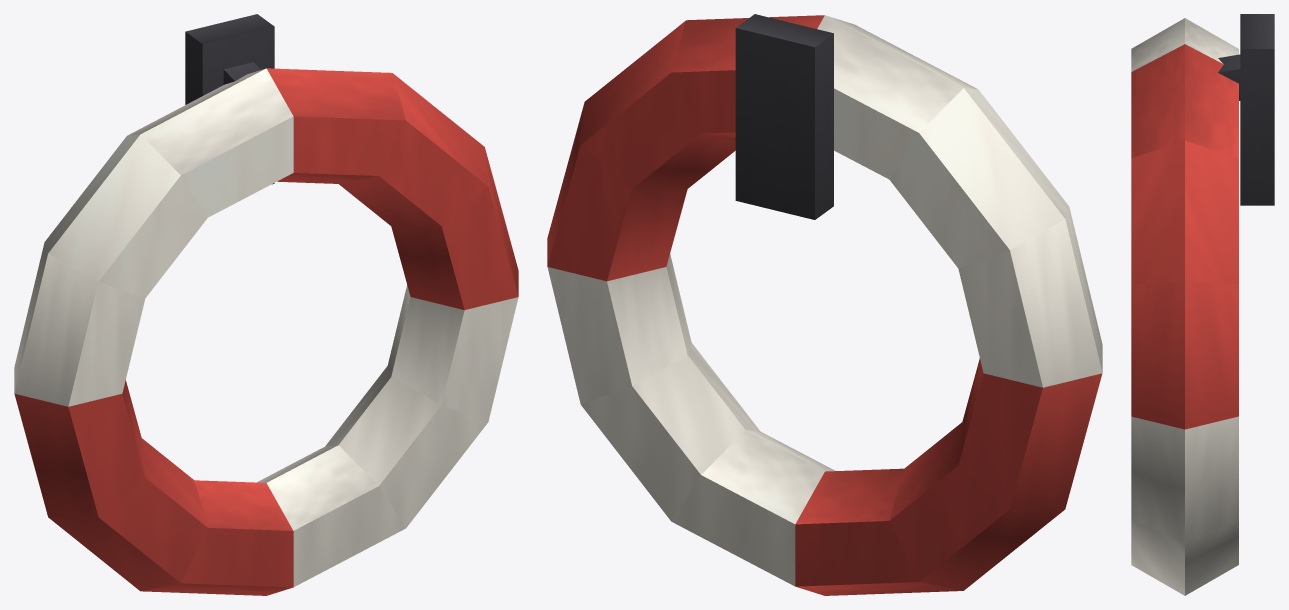
Rendered from prop_lifebuoy_01.glb.
The picture shows the model from 3 angles, left to right: view 1: azimuth 30°, elevation 25°; view 2: azimuth 150°, elevation 25°; view 3: azimuth 270°, elevation 25°; orthographic projection. The views are drawn at different scales.
Visible parts, largest first — view 1: prop_lifebuoy_01; view 2: prop_lifebuoy_01; view 3: prop_lifebuoy_01.
Boxes of the visible parts, x1=… form: prop_lifebuoy_01: x1=14, y1=14, x2=518, y2=595; prop_lifebuoy_01: x1=547, y1=14, x2=1102, y2=595; prop_lifebuoy_01: x1=1131, y1=14, x2=1274, y2=595.
Bounding box in the file's own units: 0.84 × 0.86 × 0.2079.
1 material, 1 textured.
